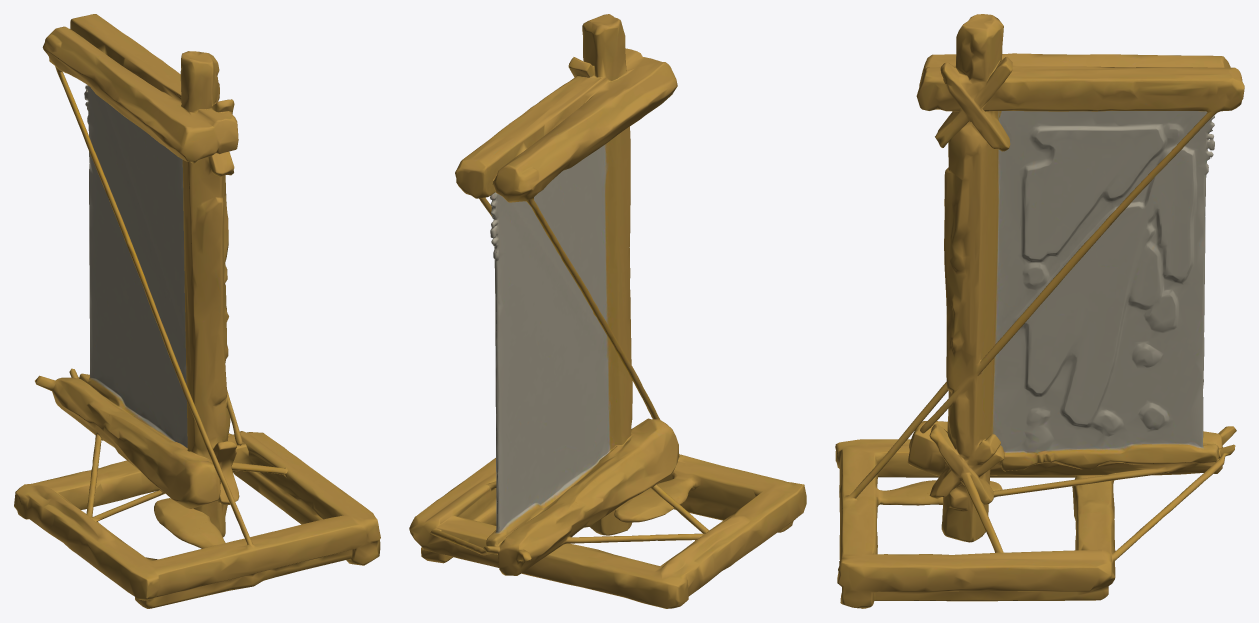
File: sail.fbx
3 renders of one model, left to right at view 1: azimuth 30°, elevation 25°; view 2: azimuth 150°, elevation 25°; view 3: azimuth 270°, elevation 25°, orthographic. The views are drawn at different scales.
Parts seen in each view (by area): view 1: tripo_node_287596a1-be79-4a48-814d-48d31deeb7d7, sail_cloth; view 2: tripo_node_287596a1-be79-4a48-814d-48d31deeb7d7, sail_cloth; view 3: tripo_node_287596a1-be79-4a48-814d-48d31deeb7d7, sail_cloth.
Part boxes in pixels (x1,y1,x2,y2): tripo_node_287596a1-be79-4a48-814d-48d31deeb7d7: [14, 14, 380, 608]; sail_cloth: [55, 85, 188, 442]; tripo_node_287596a1-be79-4a48-814d-48d31deeb7d7: [409, 14, 806, 608]; sail_cloth: [490, 145, 622, 549]; tripo_node_287596a1-be79-4a48-814d-48d31deeb7d7: [835, 14, 1244, 608]; sail_cloth: [978, 111, 1220, 469].
Bounding box in the file's own units: 52.3 × 98.73 × 68.62.
Materials: 1 (1 with a texture image).
